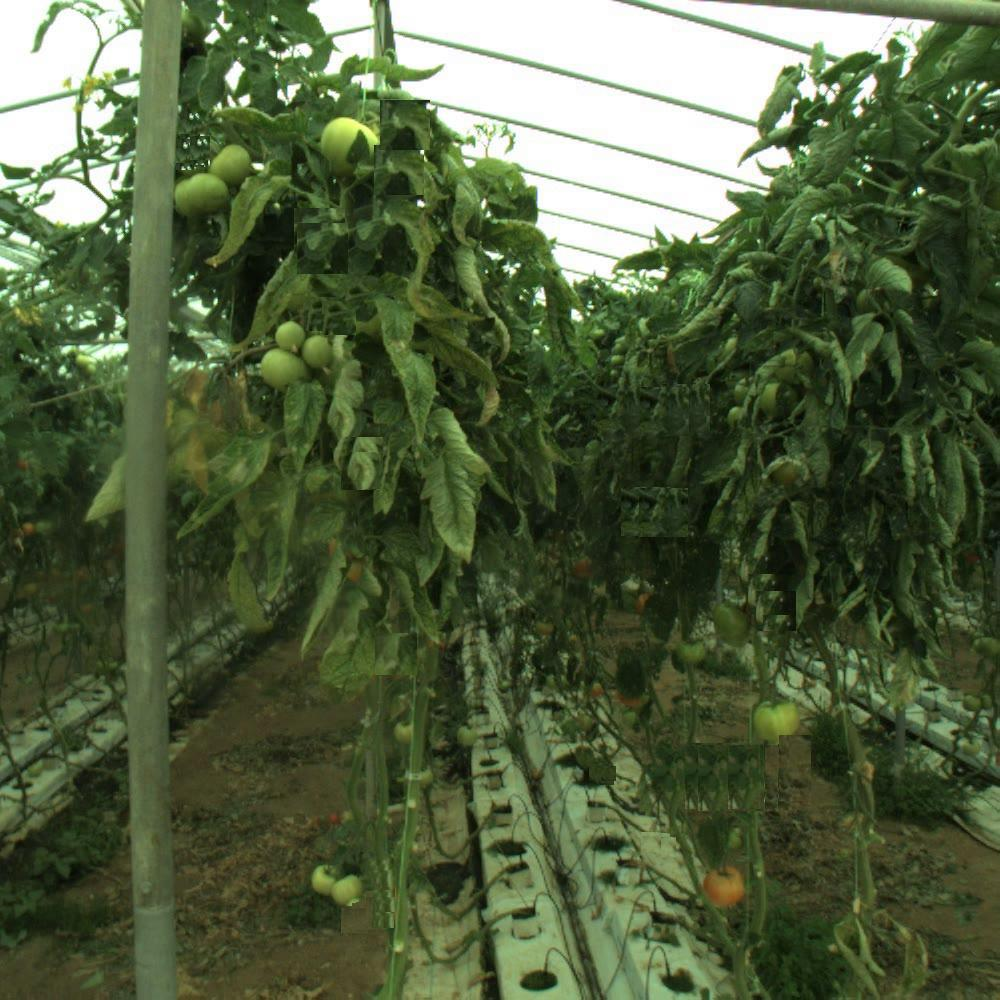fully-ripe: (704, 863, 744, 903)
unripe: (324, 117, 374, 167), (177, 170, 227, 220), (211, 144, 253, 186), (755, 701, 795, 741), (262, 349, 302, 389), (676, 636, 708, 668), (711, 602, 743, 634), (331, 874, 363, 906), (309, 862, 341, 894), (273, 319, 305, 351), (303, 334, 335, 366)
